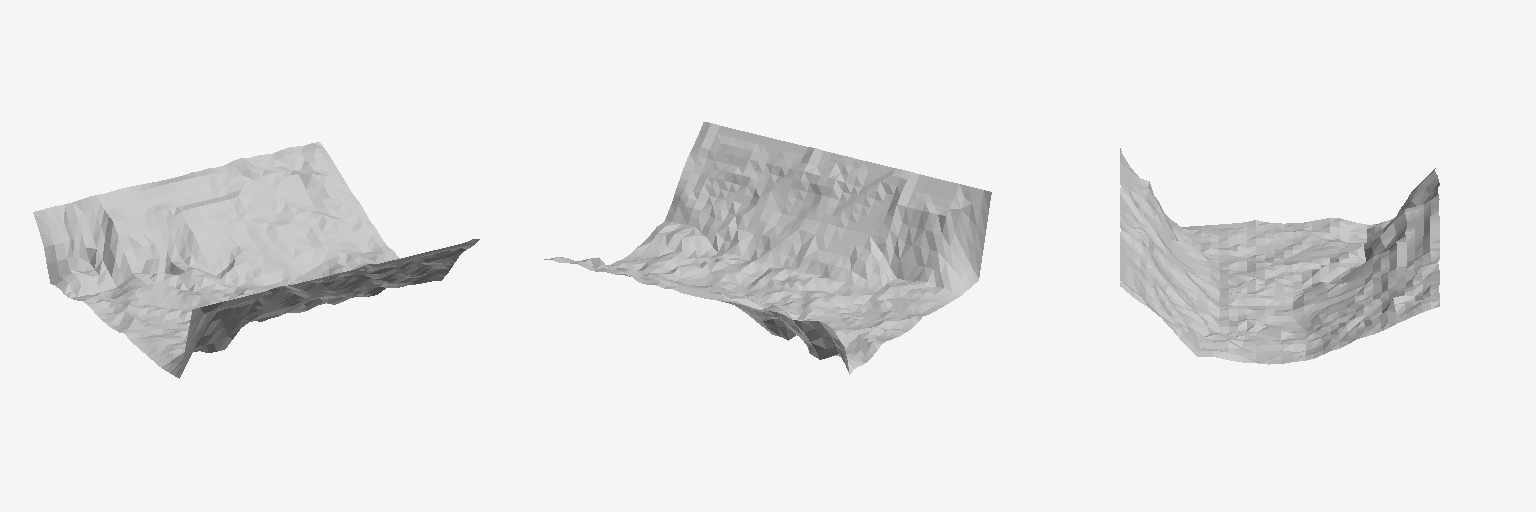
File: beach.obj
3 renders of one model, left to right at view 1: azimuth 30°, elevation 25°; view 2: azimuth 150°, elevation 25°; view 3: azimuth 270°, elevation 25°, orthographic.
Parts seen in each view (by area): view 1: Grid; view 2: Grid; view 3: Grid.
Part boxes in pixels (bbox=[...]): Grid: bbox=[33, 142, 479, 378]; Grid: bbox=[544, 122, 991, 373]; Grid: bbox=[1120, 148, 1439, 364].
Size of the model in its own units: 71.95 by 19.99 by 69.24.